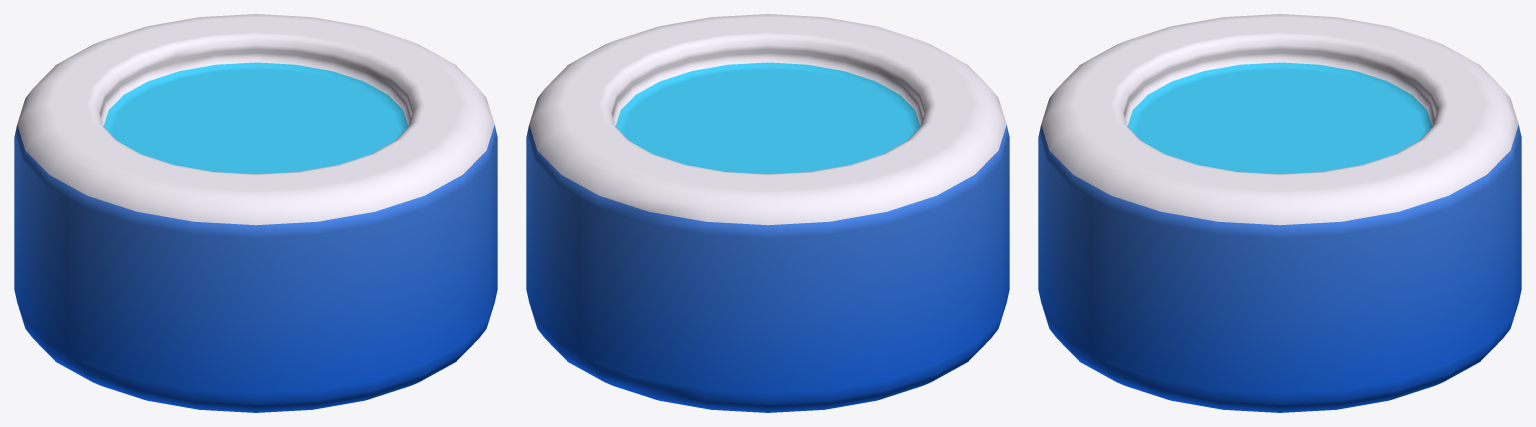
The model's file is round_platform_2.glb.
3 renders of one model, left to right at view 1: azimuth 30°, elevation 25°; view 2: azimuth 150°, elevation 25°; view 3: azimuth 270°, elevation 25°, orthographic.
Visible parts, largest first — view 1: round_platform_2; view 2: round_platform_2; view 3: round_platform_2.
Part boxes in pixels (x1,y1,x2,y2): round_platform_2: (14, 14, 497, 412); round_platform_2: (526, 14, 1009, 412); round_platform_2: (1038, 14, 1521, 412).
Size of the model in its own units: 2 by 1 by 2.
1 material, 1 textured.
